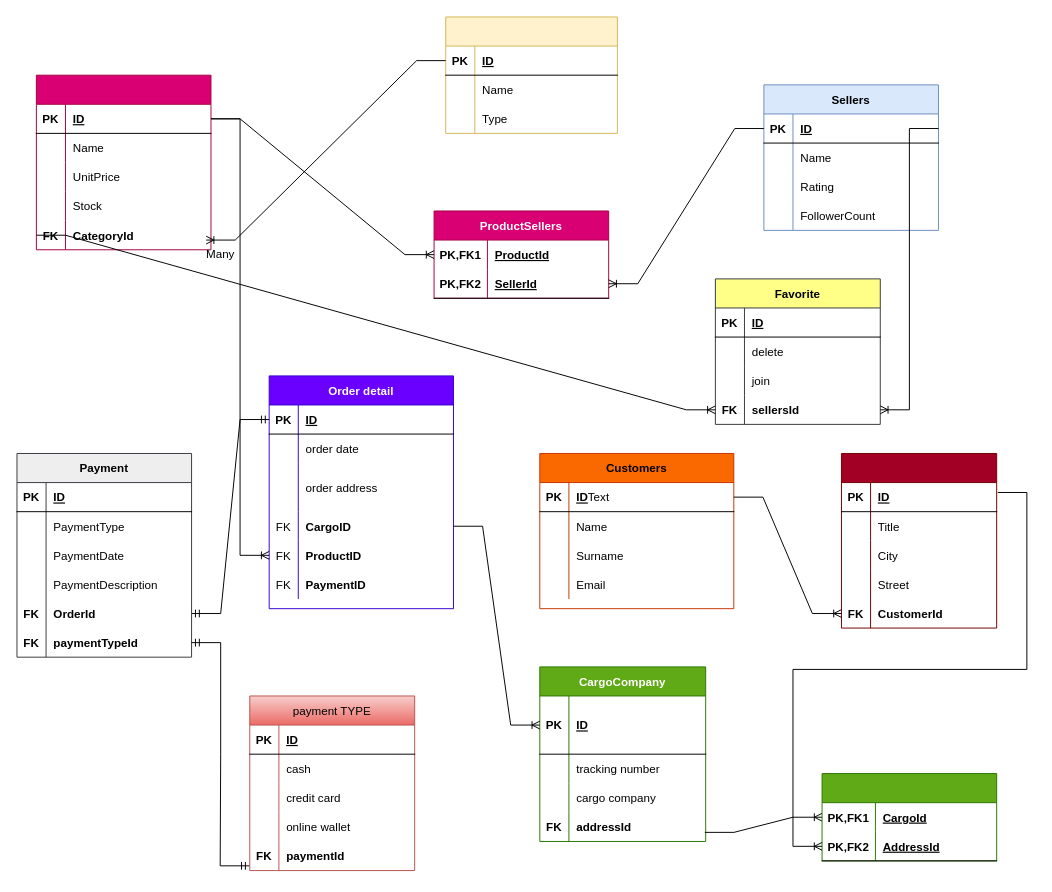
Image size: 1052x892. Some labels were removed from this diagram. The shapes that lost their labels are listed below. From the top down, each one's box as (x1, y1, x2, y2) in pixels, then its label:
(445, 16, 617, 133): Categories
(35, 74, 211, 250): Products
(841, 453, 997, 628): Addresses
(821, 773, 997, 861): cargoAddress
